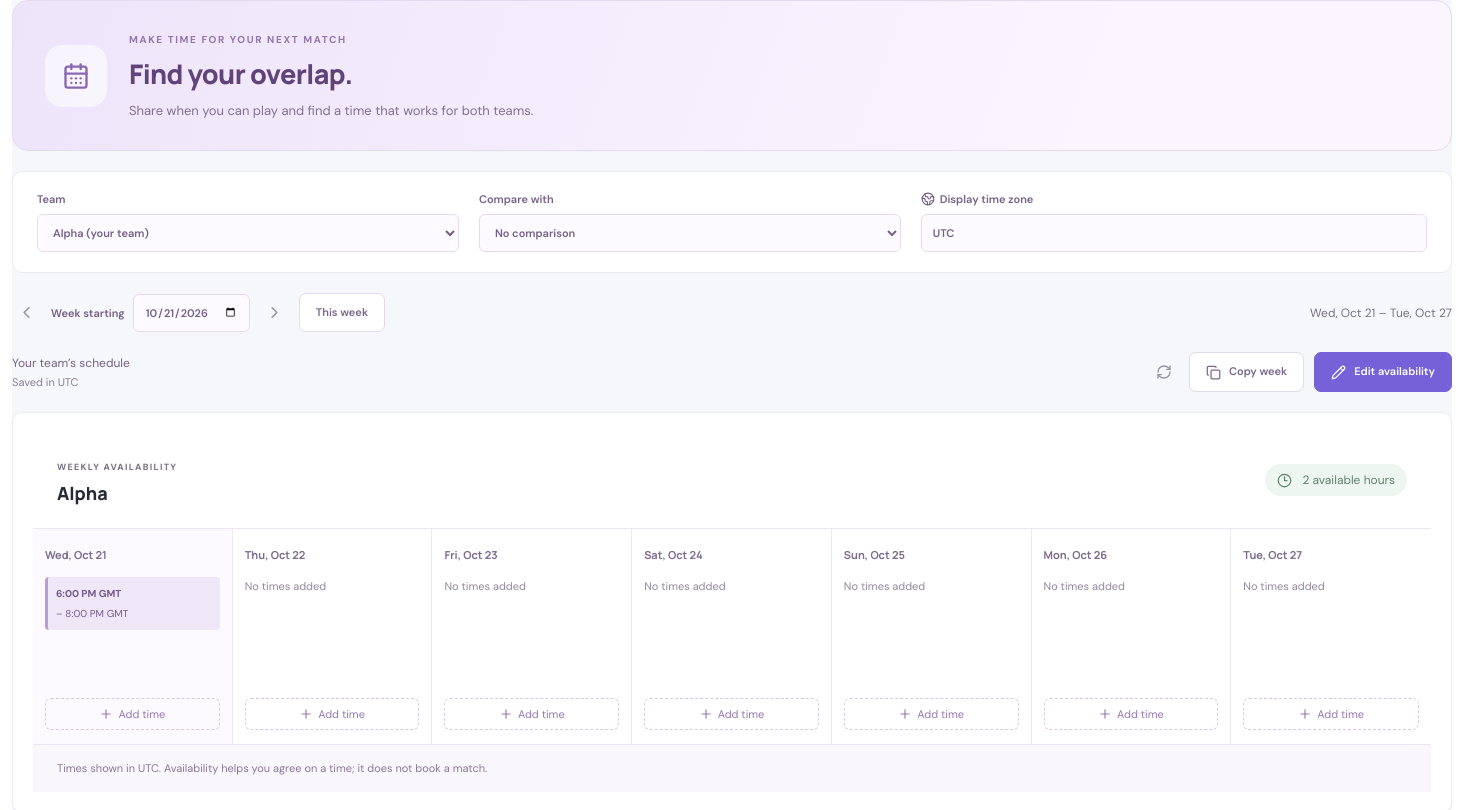
it: availability editing › keeps display timezone changes read-only and preserves the exact suggested week start
Replace the text in the field labelled "Display time zone" with "Asia/Kathmandu" at (1174, 233), box top-left (921, 214), bottom-right (1427, 252)
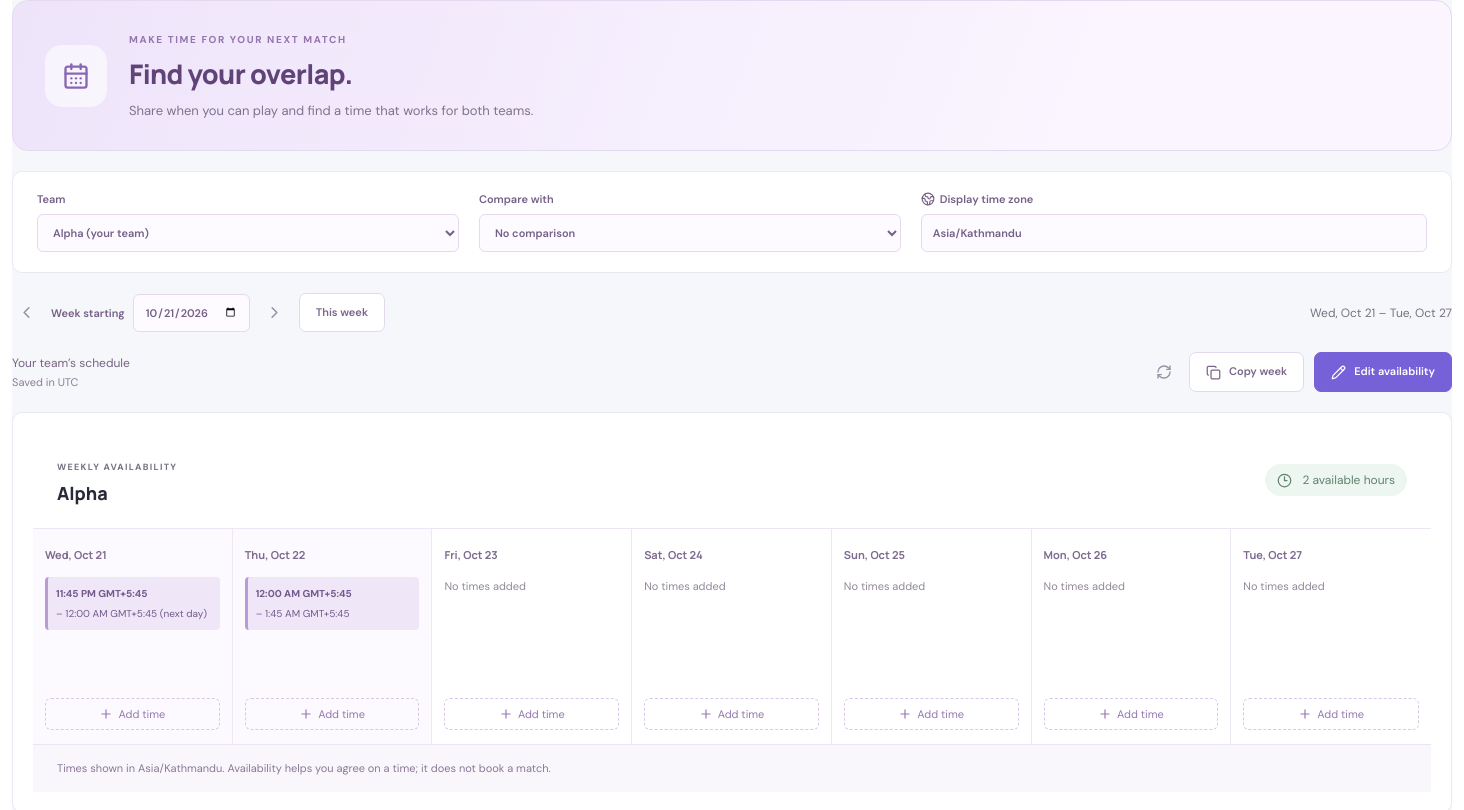
Result: the text "Times shown in Asia/Kathmandu" is shown at top-left (33, 744), bottom-right (1431, 792)
